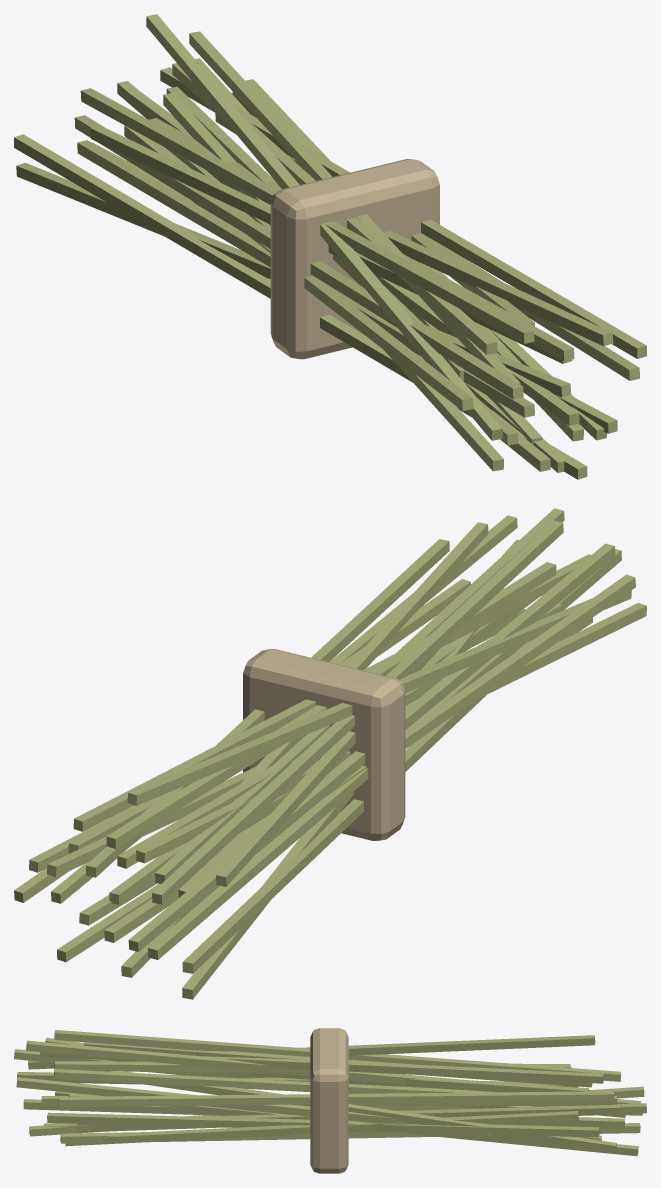
Rendered from fiber.glb.
3 renders of one model, top to bottom at view 1: azimuth 30°, elevation 25°; view 2: azimuth 150°, elevation 25°; view 3: azimuth 270°, elevation 25°, orthographic. The views are drawn at different scales.
Visible parts, largest first — view 1: Body; view 2: Body; view 3: Body.
Boxes of the visible parts, x1,y1,x2,y2 form: Body: (14,14,646,479); Body: (14,508,646,999); Body: (14,1028,646,1173).
Size of the model in its own units: 0.0846 by 0.0666 by 0.3301.
